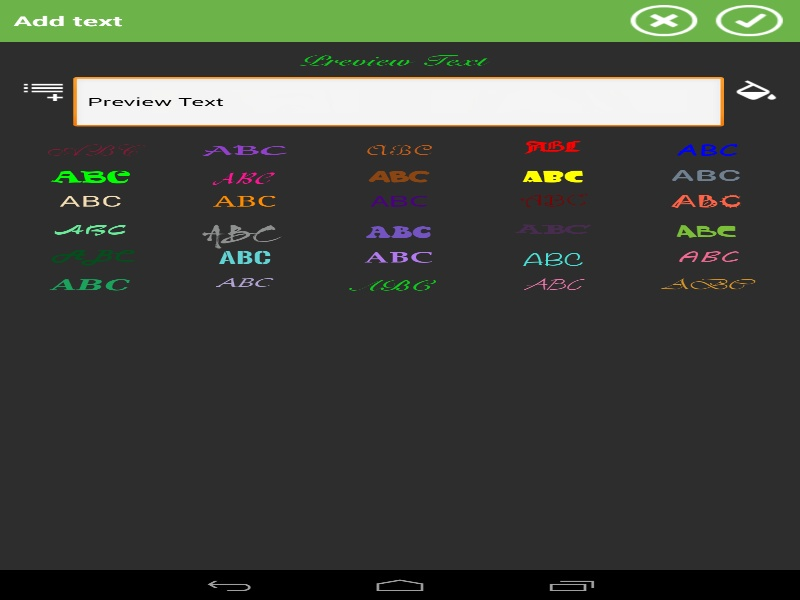Button: (625, 3, 701, 38), (710, 3, 786, 38), (730, 78, 780, 101), (20, 80, 66, 100)
Input: (73, 76, 724, 129)
